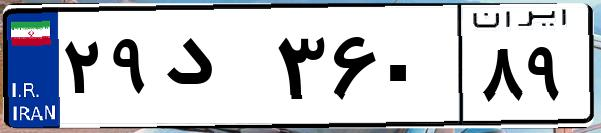0: (385, 28, 445, 110)
2: (57, 26, 110, 100)
3: (270, 28, 330, 110)
6: (330, 28, 385, 110)
8: (475, 38, 525, 113)
9: (525, 38, 570, 115), (110, 28, 158, 98)
د: (158, 20, 270, 120)
